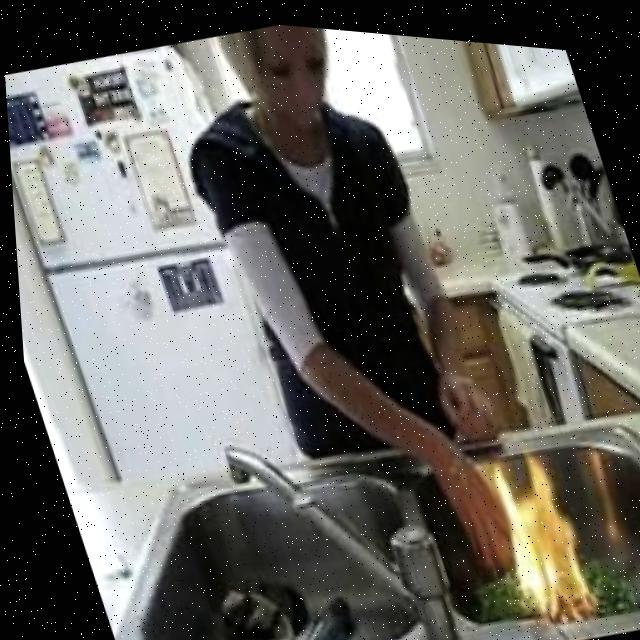Fire: (476, 446, 587, 611)
